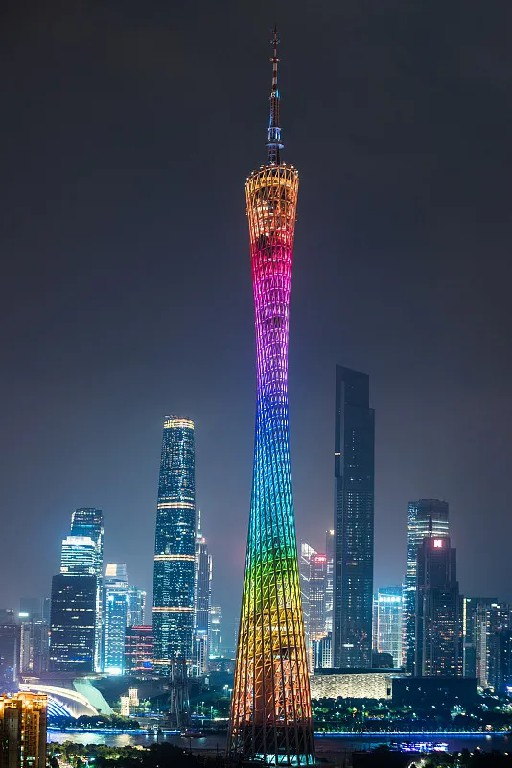Canton: (229, 20, 317, 764)
